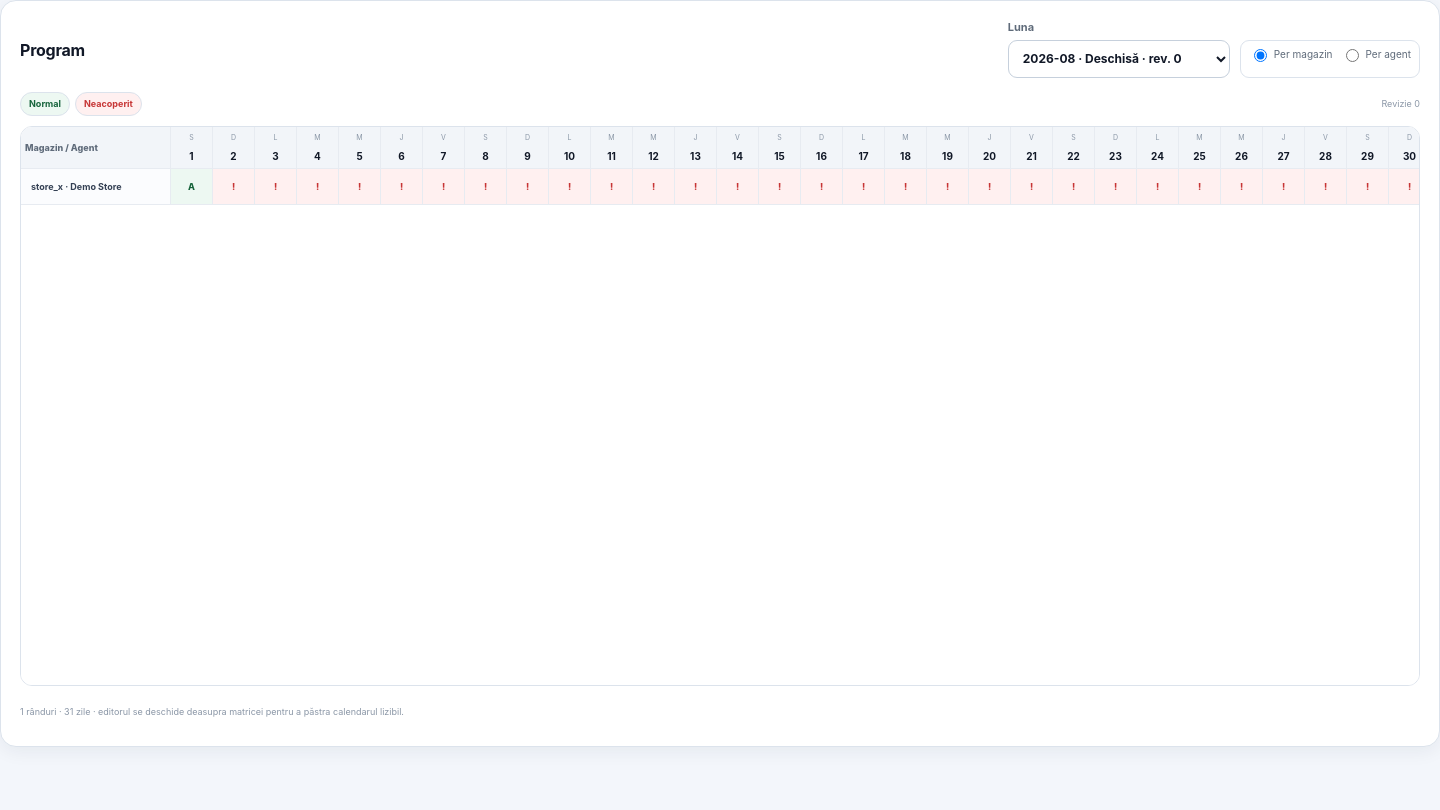
Program page › does not misclassify MONTH_CLOSED as a stale revision
Expected: the text "store_x · Demo Store" is shown, [21,169,171,205]
What coordinates should you click on to do the following:
click the button named "Demo Store pe 2026-08-01"
I would click on:
 (192, 187)
Its box is [171,169,213,205].
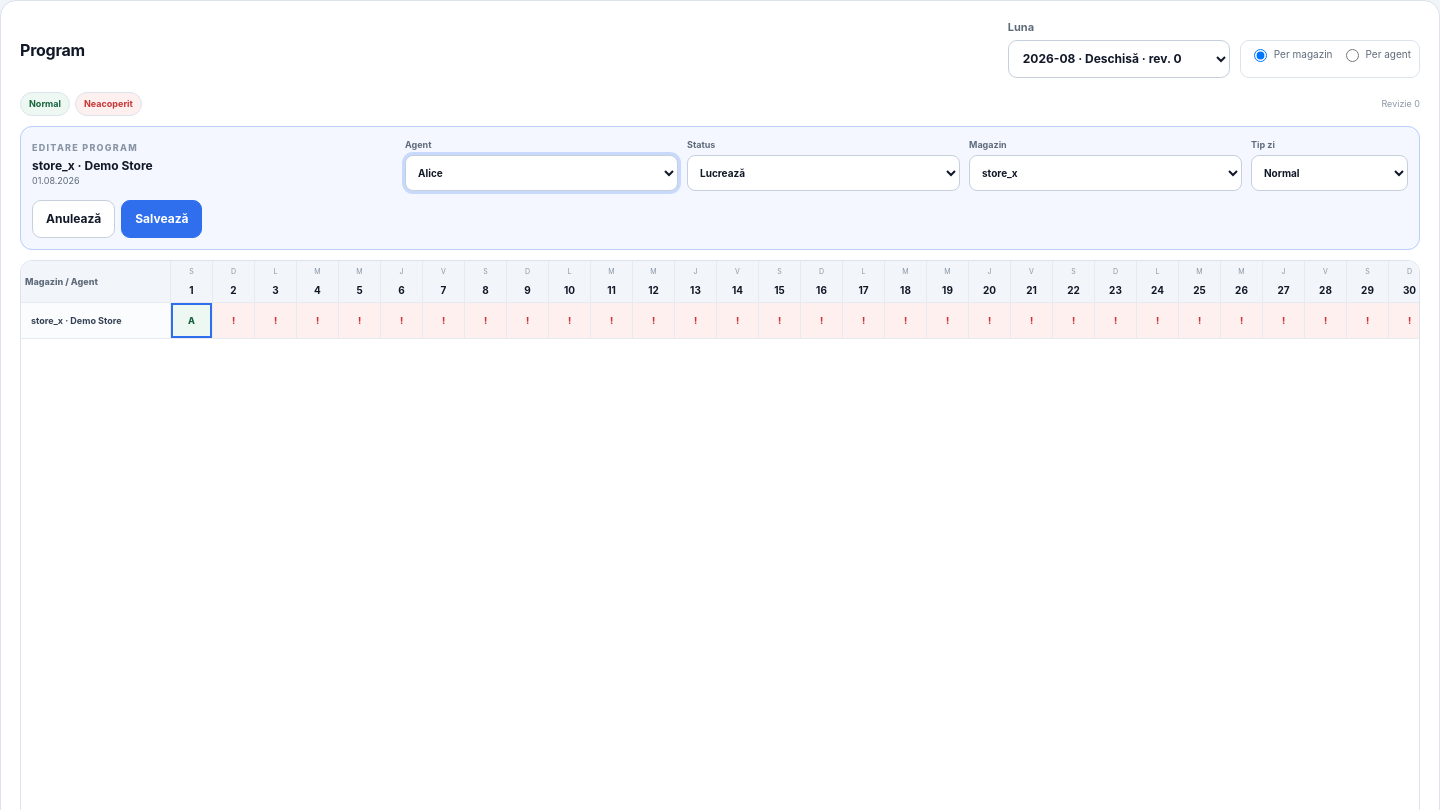
Result: the button "Salvează" is shown
What coordinates should you click on to do the following:
click the button "Salvează"
I would click on:
 (162, 219)
Its box is [121,200,202,238].
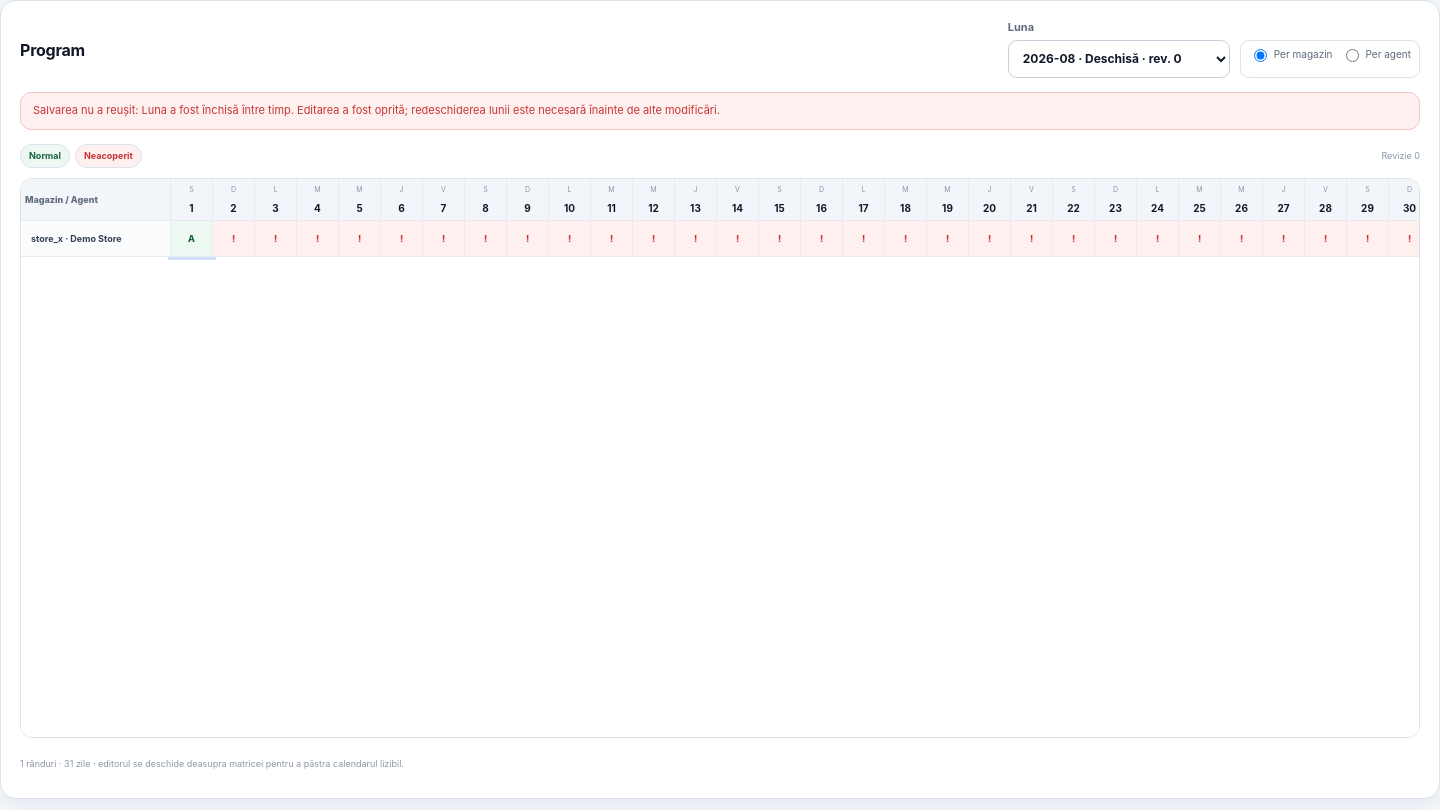
Result: the message shows "Luna a fost închisă" at [142,103,720,117]
Result: the button "Salvează" is gone
